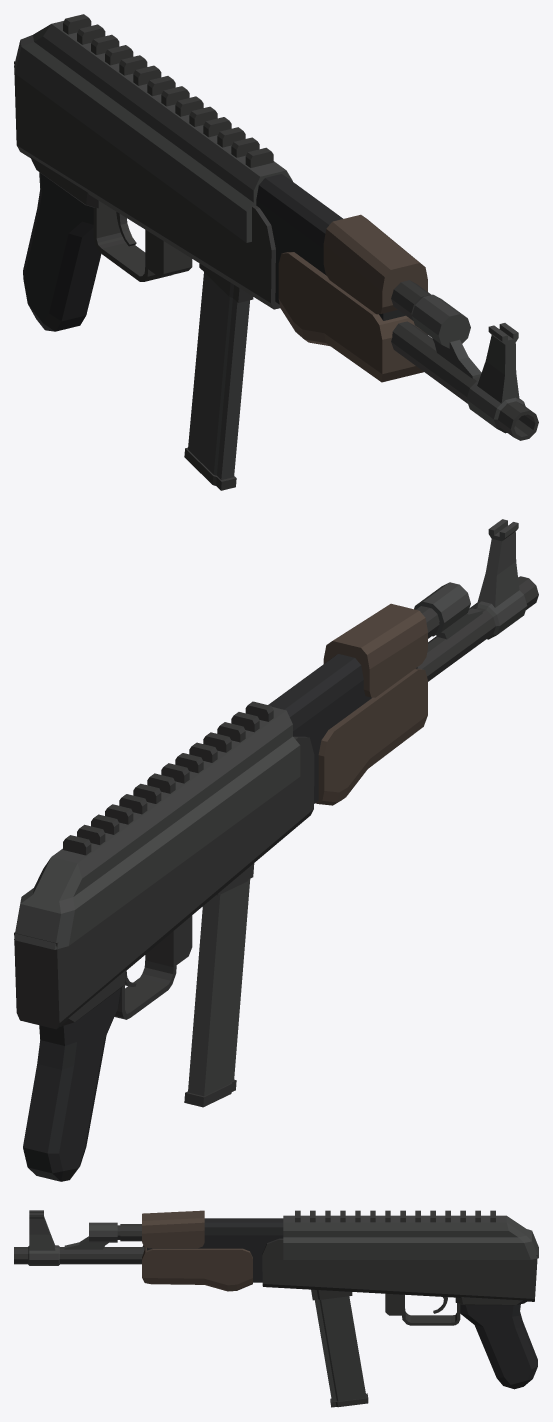
File: rifle-1.glb
3 renders of one model, top to bottom at view 1: azimuth 30°, elevation 25°; view 2: azimuth 150°, elevation 25°; view 3: azimuth 270°, elevation 25°, orthographic. The views are drawn at different scales.
Parts seen in each view (by area): view 1: rifle-1; view 2: rifle-1; view 3: rifle-1.
Part boxes in pixels (x1,y1,x2,y2): rifle-1: [14, 14, 538, 490]; rifle-1: [14, 519, 538, 1181]; rifle-1: [14, 1210, 538, 1407].
Bounding box in the file's own units: 0.0318 × 0.2045 × 0.5039.
